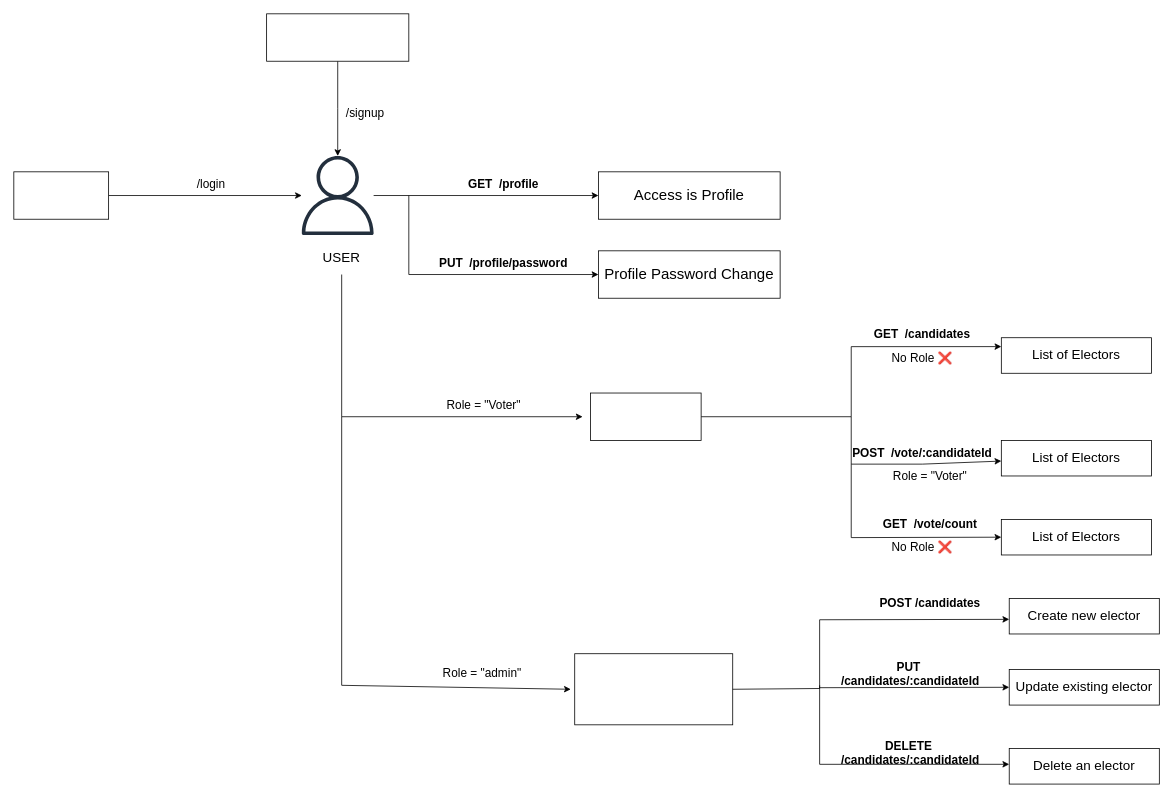
Image size: 1173x798. Some labels were removed from this diagram. Each missing label, with the box of its shape:
Candidate Management: (574, 653, 733, 725)
Create User: (266, 13, 409, 61)
Login User: (13, 171, 109, 219)
VOTE: (590, 392, 701, 440)
